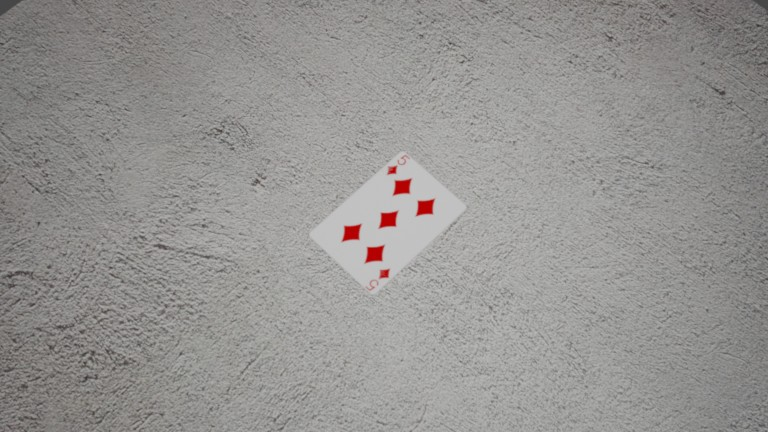5_of_diamonds: (362, 262, 397, 295), (380, 152, 413, 182)
